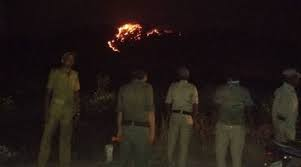fire: (93, 13, 205, 56)
